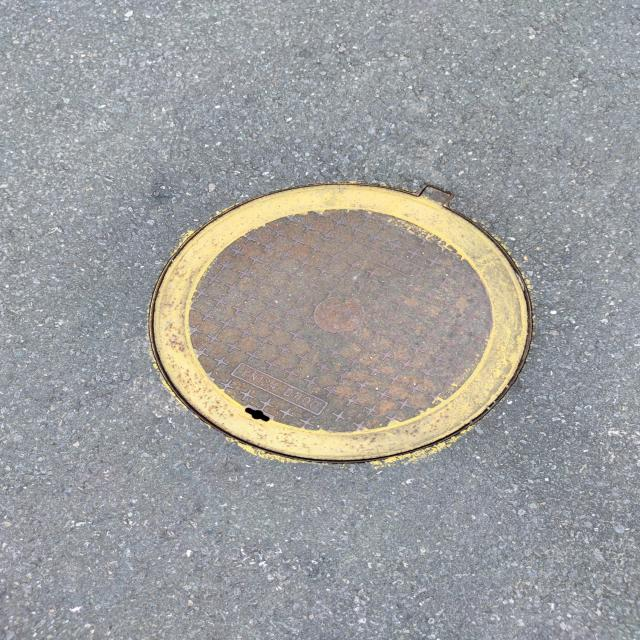Good: (143, 175, 544, 472)
